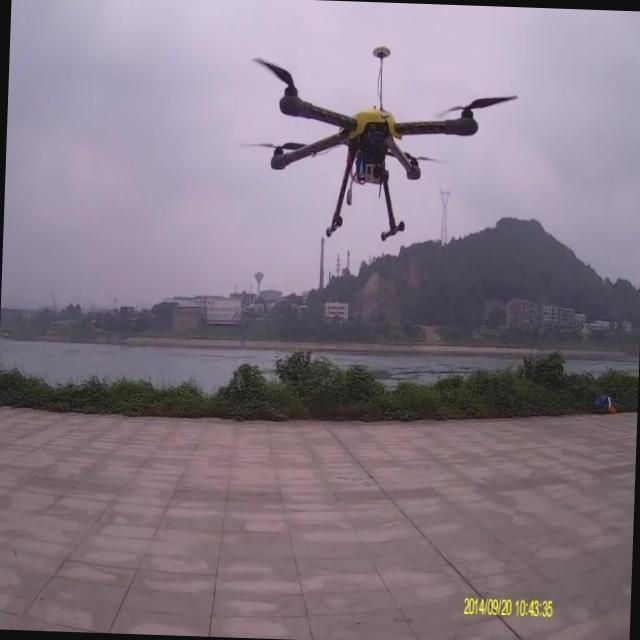drone: (245, 39, 520, 246)
